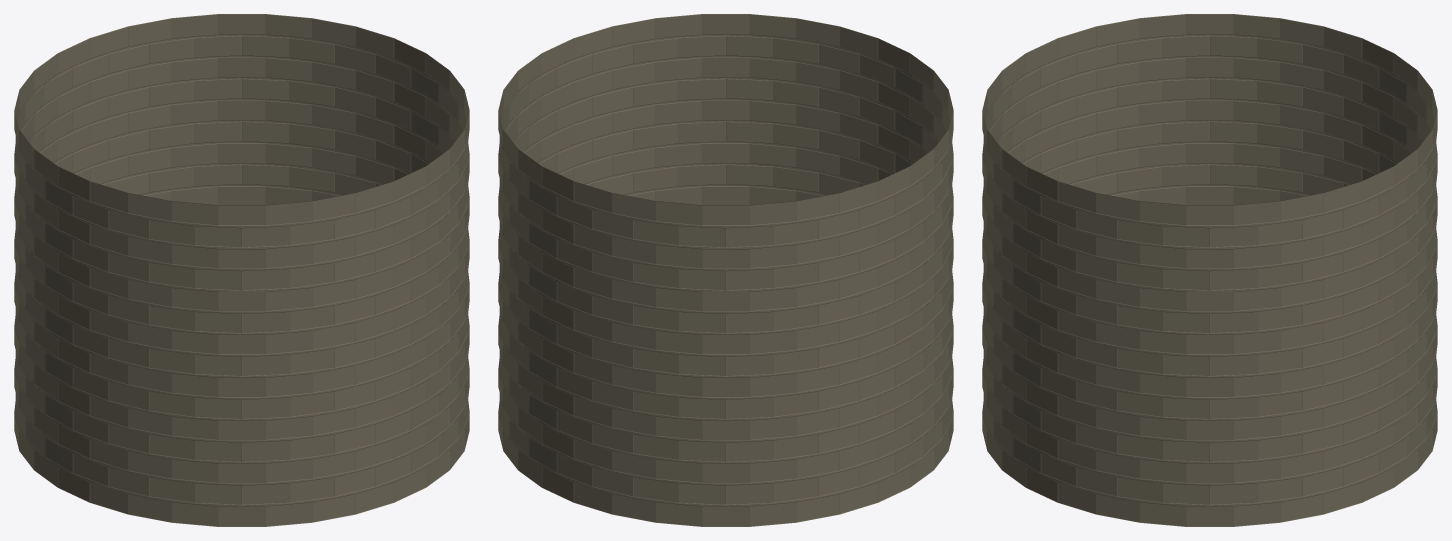
File: WooMul.FBX
The picture shows the model from 3 angles, left to right: view 1: azimuth 30°, elevation 25°; view 2: azimuth 150°, elevation 25°; view 3: azimuth 270°, elevation 25°; orthographic projection.
Parts seen in each view (by area): view 1: Cylinder161; view 2: Cylinder161; view 3: Cylinder161.
Boxes of the visible parts, x1=… form: Cylinder161: x1=14, y1=14, x2=469, y2=526; Cylinder161: x1=498, y1=14, x2=953, y2=526; Cylinder161: x1=982, y1=14, x2=1437, y2=526.
Size of the model in its own units: 1511 by 1178 by 1511.
